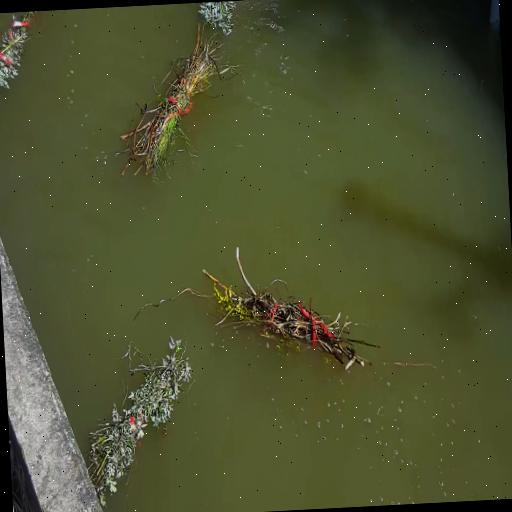twig: (204, 247, 380, 369), (88, 336, 191, 506), (121, 34, 215, 176), (0, 12, 38, 88), (199, 1, 234, 35)
